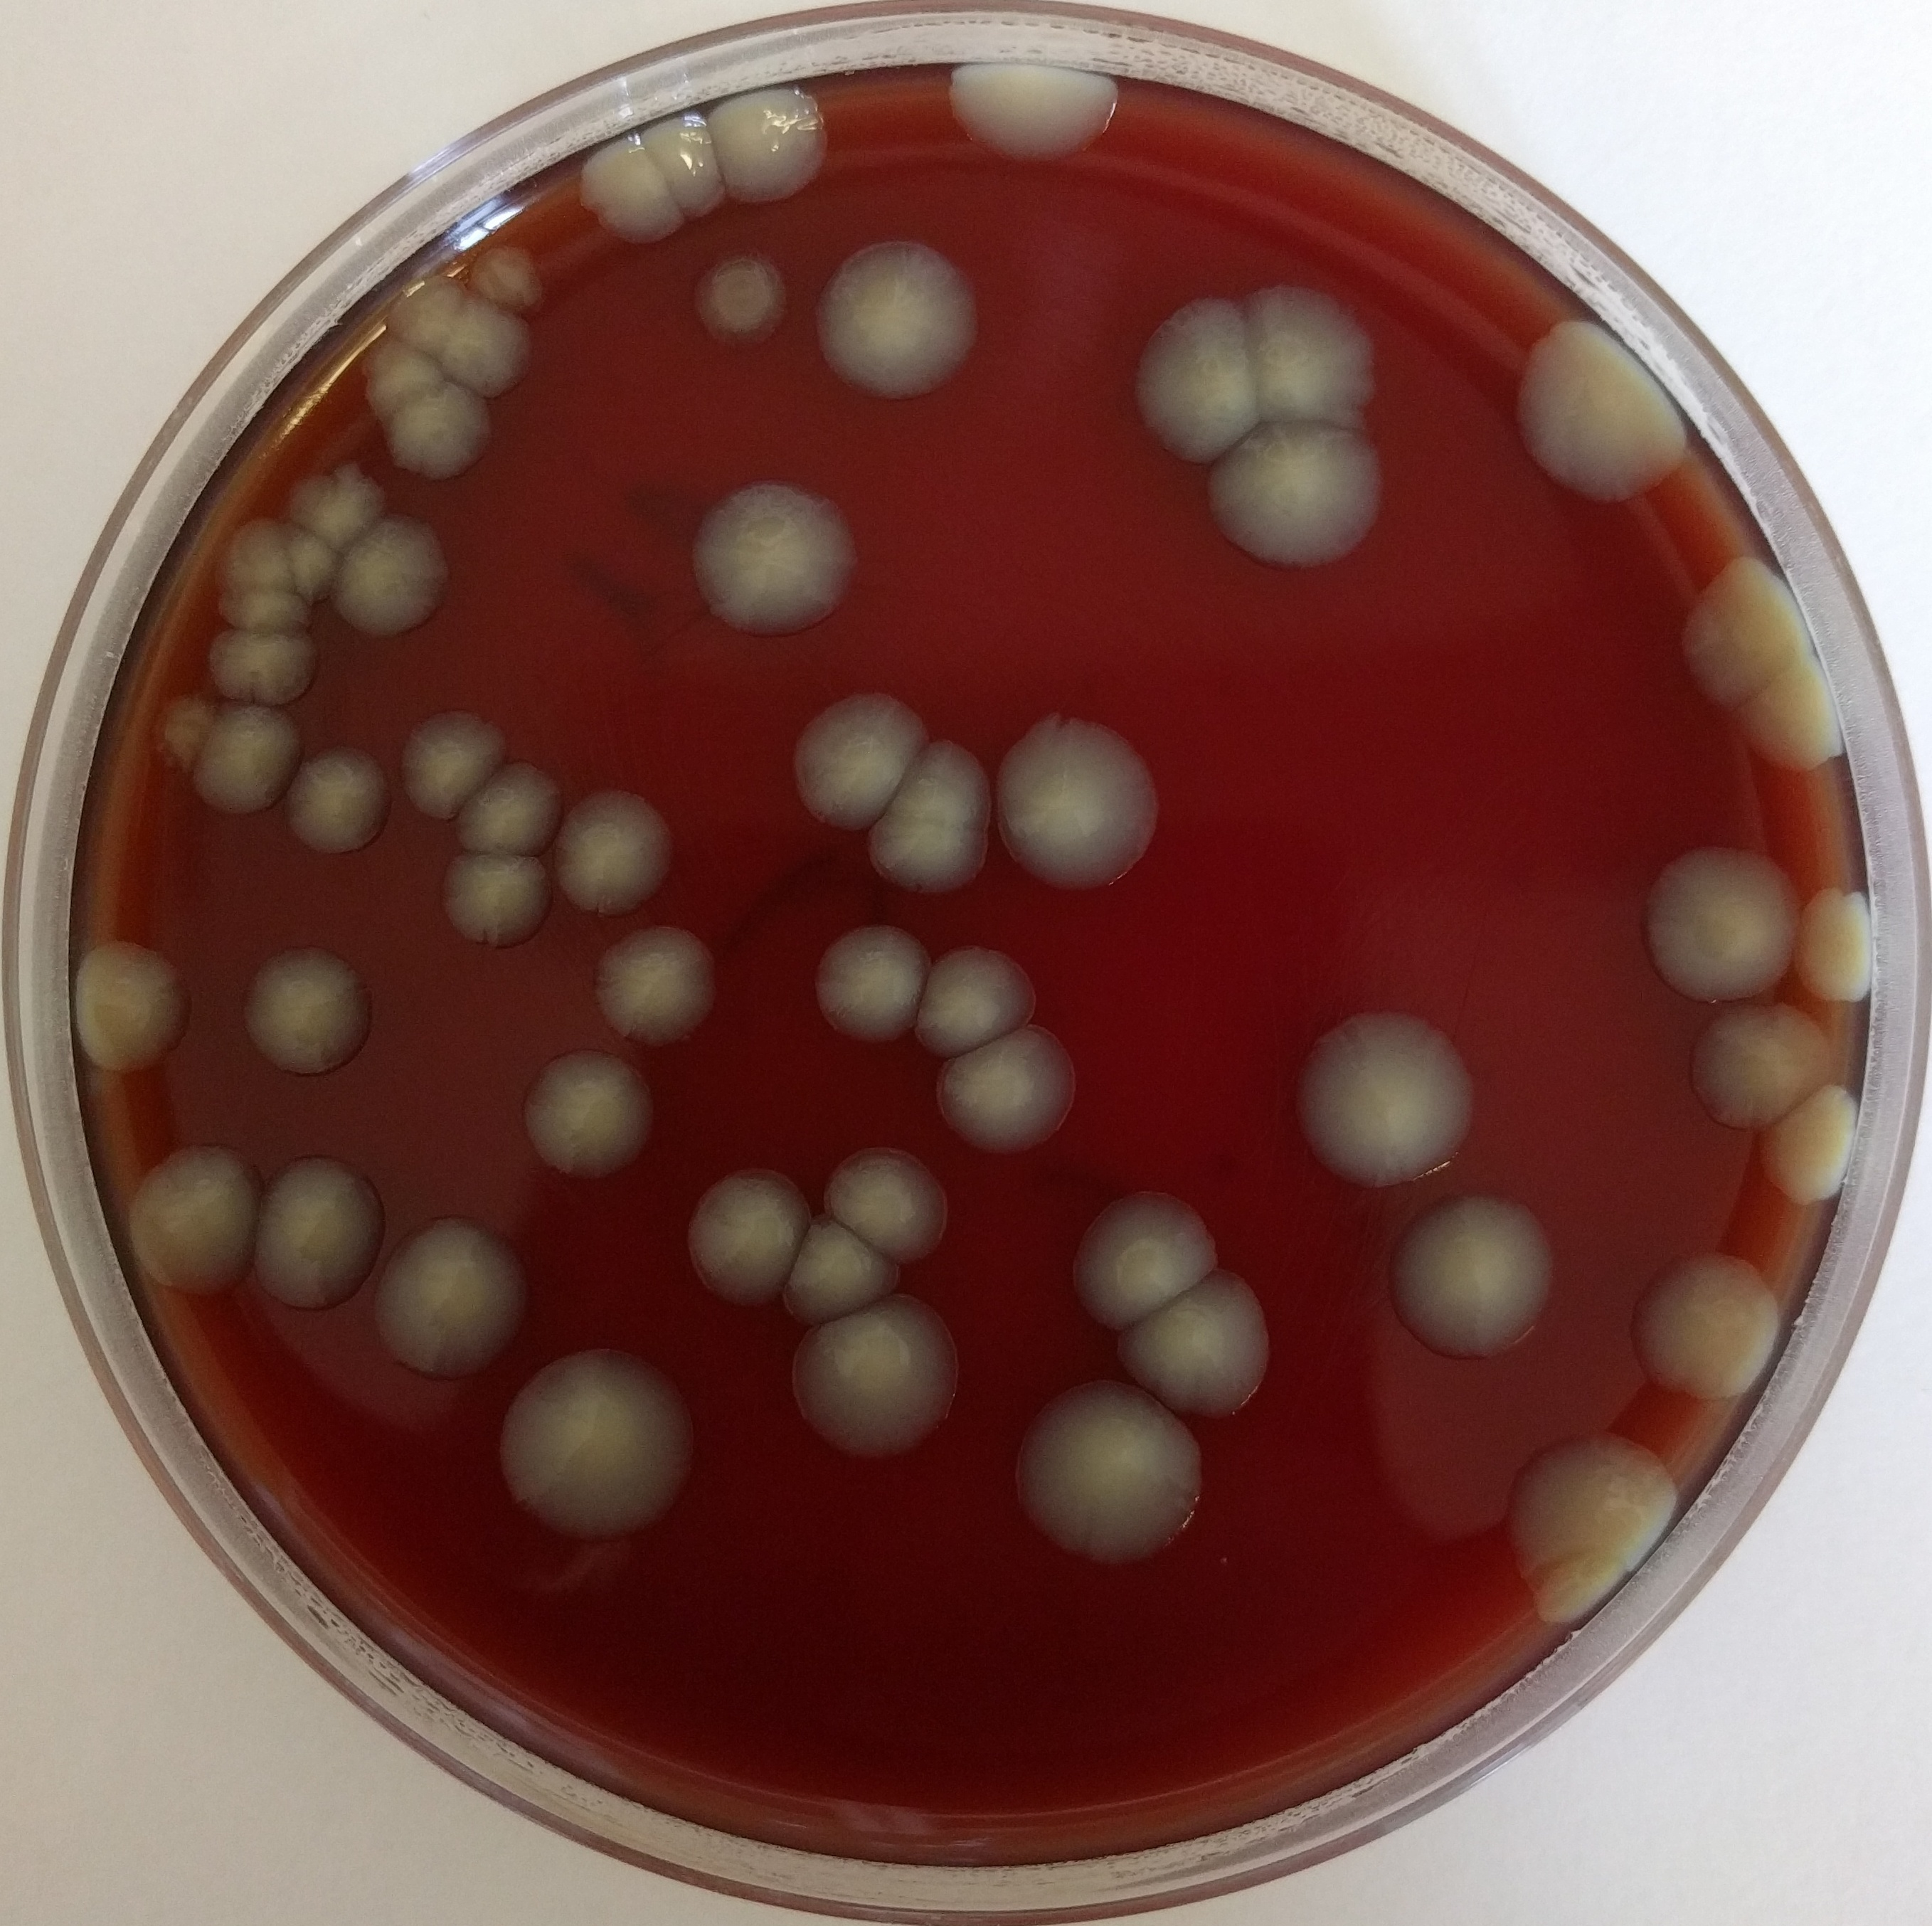sp05: (1512, 312, 1692, 522), (1500, 1425, 1687, 1626), (495, 1340, 696, 1527), (1022, 1374, 1199, 1580), (1308, 1000, 1481, 1187), (996, 709, 1163, 901), (691, 478, 876, 647), (1207, 423, 1391, 582), (790, 1295, 962, 1462), (1391, 1192, 1555, 1363), (816, 236, 980, 406), (1631, 1242, 1791, 1415), (374, 1208, 532, 1383), (1123, 1256, 1278, 1425), (1638, 836, 1793, 1000), (125, 1132, 261, 1300), (1130, 289, 1257, 467), (1075, 1183, 1223, 1330), (257, 1148, 383, 1318), (943, 53, 1121, 166), (1676, 554, 1810, 704), (1685, 998, 1832, 1131), (74, 931, 194, 1088), (1252, 275, 1377, 425), (240, 938, 370, 1081), (790, 688, 924, 824), (938, 1032, 1079, 1161), (522, 1046, 654, 1180), (555, 781, 679, 921), (686, 1164, 802, 1309), (592, 921, 724, 1046), (712, 78, 836, 210), (1728, 647, 1849, 781), (821, 1139, 948, 1263), (918, 938, 1042, 1056), (813, 921, 927, 1048), (189, 704, 307, 822), (575, 131, 684, 254), (338, 524, 453, 640), (1757, 1086, 1861, 1213), (280, 739, 395, 854), (400, 704, 502, 825), (383, 379, 497, 485), (689, 242, 793, 356), (788, 1219, 897, 1323), (1800, 877, 1884, 1011), (437, 855, 554, 949), (455, 758, 564, 857), (874, 737, 991, 822), (864, 818, 987, 898), (197, 631, 326, 704), (640, 106, 724, 215), (446, 302, 538, 402), (293, 460, 381, 557), (217, 510, 293, 605), (361, 335, 442, 418), (384, 270, 464, 342), (469, 242, 545, 312), (152, 693, 212, 776), (287, 527, 338, 614), (212, 593, 312, 635)
